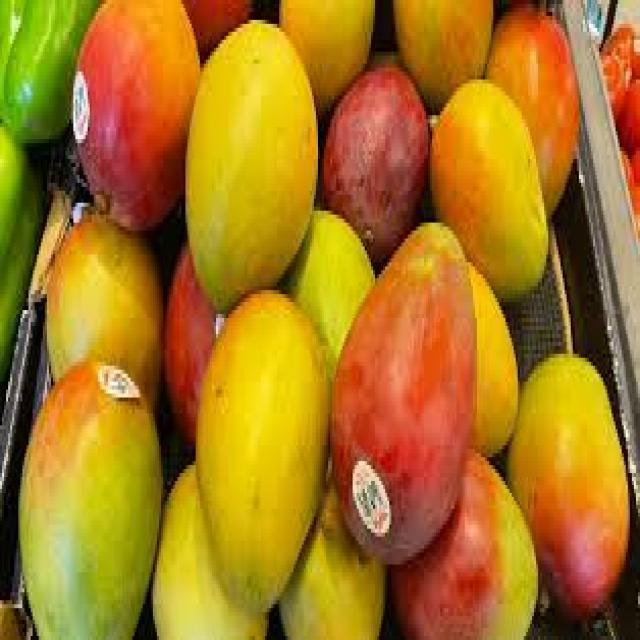Mango: (329, 220, 477, 546), (202, 298, 336, 594), (23, 367, 166, 626), (189, 19, 320, 292), (508, 354, 631, 622), (73, 2, 201, 226), (394, 442, 538, 636), (435, 79, 549, 304), (45, 211, 164, 424), (323, 63, 432, 258), (153, 461, 268, 640), (486, 7, 578, 224), (277, 0, 374, 105), (391, 0, 487, 106)
